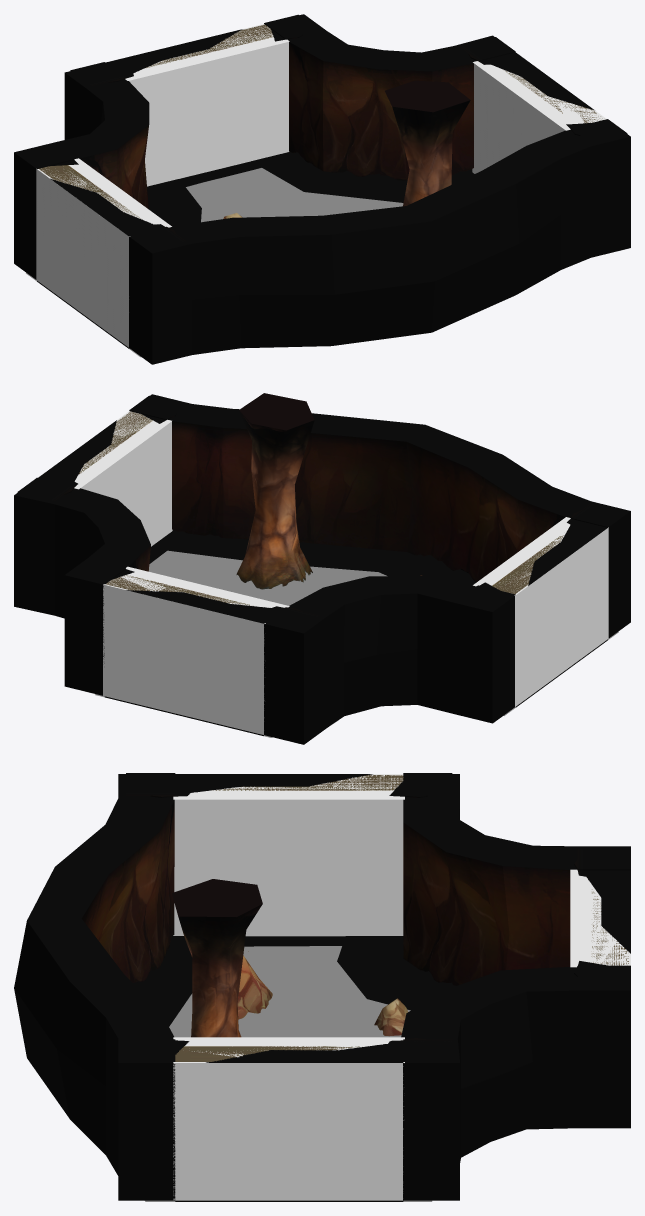
Rendered from Dungeon_011_RoadT_002.fbx.
3 renders of one model, top to bottom at view 1: azimuth 30°, elevation 25°; view 2: azimuth 150°, elevation 25°; view 3: azimuth 270°, elevation 25°, orthographic. The views are drawn at different scales.
Visible parts, largest first — view 1: Dan1, DoorWay_NavMask (1) (×3), Dun_011_Door_002_old (×3), Dungeon_011_Object_010 (1), Radar, Dan1_shadow, Dun_011_Door_003_WarpRoom (×3), Dun_011_Door_002 (×3), Dun_011_Door_002_shadow; view 2: Dan1, DoorWay_NavMask (1) (×3), Dungeon_011_Object_010 (1), Dun_011_Door_002_old (×3), Dan1_shadow, Radar, Dun_011_Door_003_WarpRoom (×3), Dun_011_Door_002 (×3); view 3: Dan1, DoorWay_NavMask (1) (×3), Dun_011_Door_002_old (×3), Radar, Dungeon_011_Object_010 (1), Dan1_shadow, Dun_011_Door_003_WarpRoom (×2), Dun_011_Door_002 (×3), Dungeon_011_Object_012 (1), Dun_011_Door_002_shadow, Dungeon_011_Object_013 (1).
Part boxes in pixels (<box>): Dan1: <box>14,14,630,364</box>; DoorWay_NavMask (1) (×3): <box>36,24,606,347</box>; Dun_011_Door_002_old (×3): <box>17,14,627,346</box>; Dungeon_011_Object_010 (1): <box>385,80,470,206</box>; Radar: <box>26,168,403,357</box>; Dan1_shadow: <box>147,152,474,226</box>; Dun_011_Door_003_WarpRoom (×3): <box>39,24,602,218</box>; Dun_011_Door_002 (×3): <box>37,23,605,348</box>; Dun_011_Door_002_shadow: <box>178,161,261,186</box>; Dan1: <box>14,394,630,744</box>; DoorWay_NavMask (1) (×3): <box>74,411,608,734</box>; Dungeon_011_Object_010 (1): <box>236,393,314,589</box>; Dun_011_Door_002_old (×3): <box>17,395,627,631</box>; Dan1_shadow: <box>150,530,476,584</box>; Radar: <box>95,550,618,737</box>; Dun_011_Door_003_WarpRoom (×3): <box>79,411,563,605</box>; Dun_011_Door_002 (×3): <box>19,405,627,735</box>; Dan1: <box>14,774,630,1200</box>; DoorWay_NavMask (1) (×3): <box>173,774,630,1200</box>; Dun_011_Door_002_old (×3): <box>126,773,630,1200</box>; Radar: <box>145,946,432,1201</box>; Dungeon_011_Object_010 (1): <box>172,879,262,1037</box>; Dan1_shadow: <box>133,934,456,1026</box>; Dun_011_Door_003_WarpRoom (×2): <box>175,775,403,1061</box>; Dun_011_Door_002 (×3): <box>126,773,630,1201</box>; Dungeon_011_Object_012 (1): <box>237,955,272,1019</box>; Dun_011_Door_002_shadow: <box>244,936,345,946</box>; Dungeon_011_Object_013 (1): <box>374,998,408,1036</box>.
Size of what is drawn, in the model's own units: 9 by 2.96 by 8.13.
